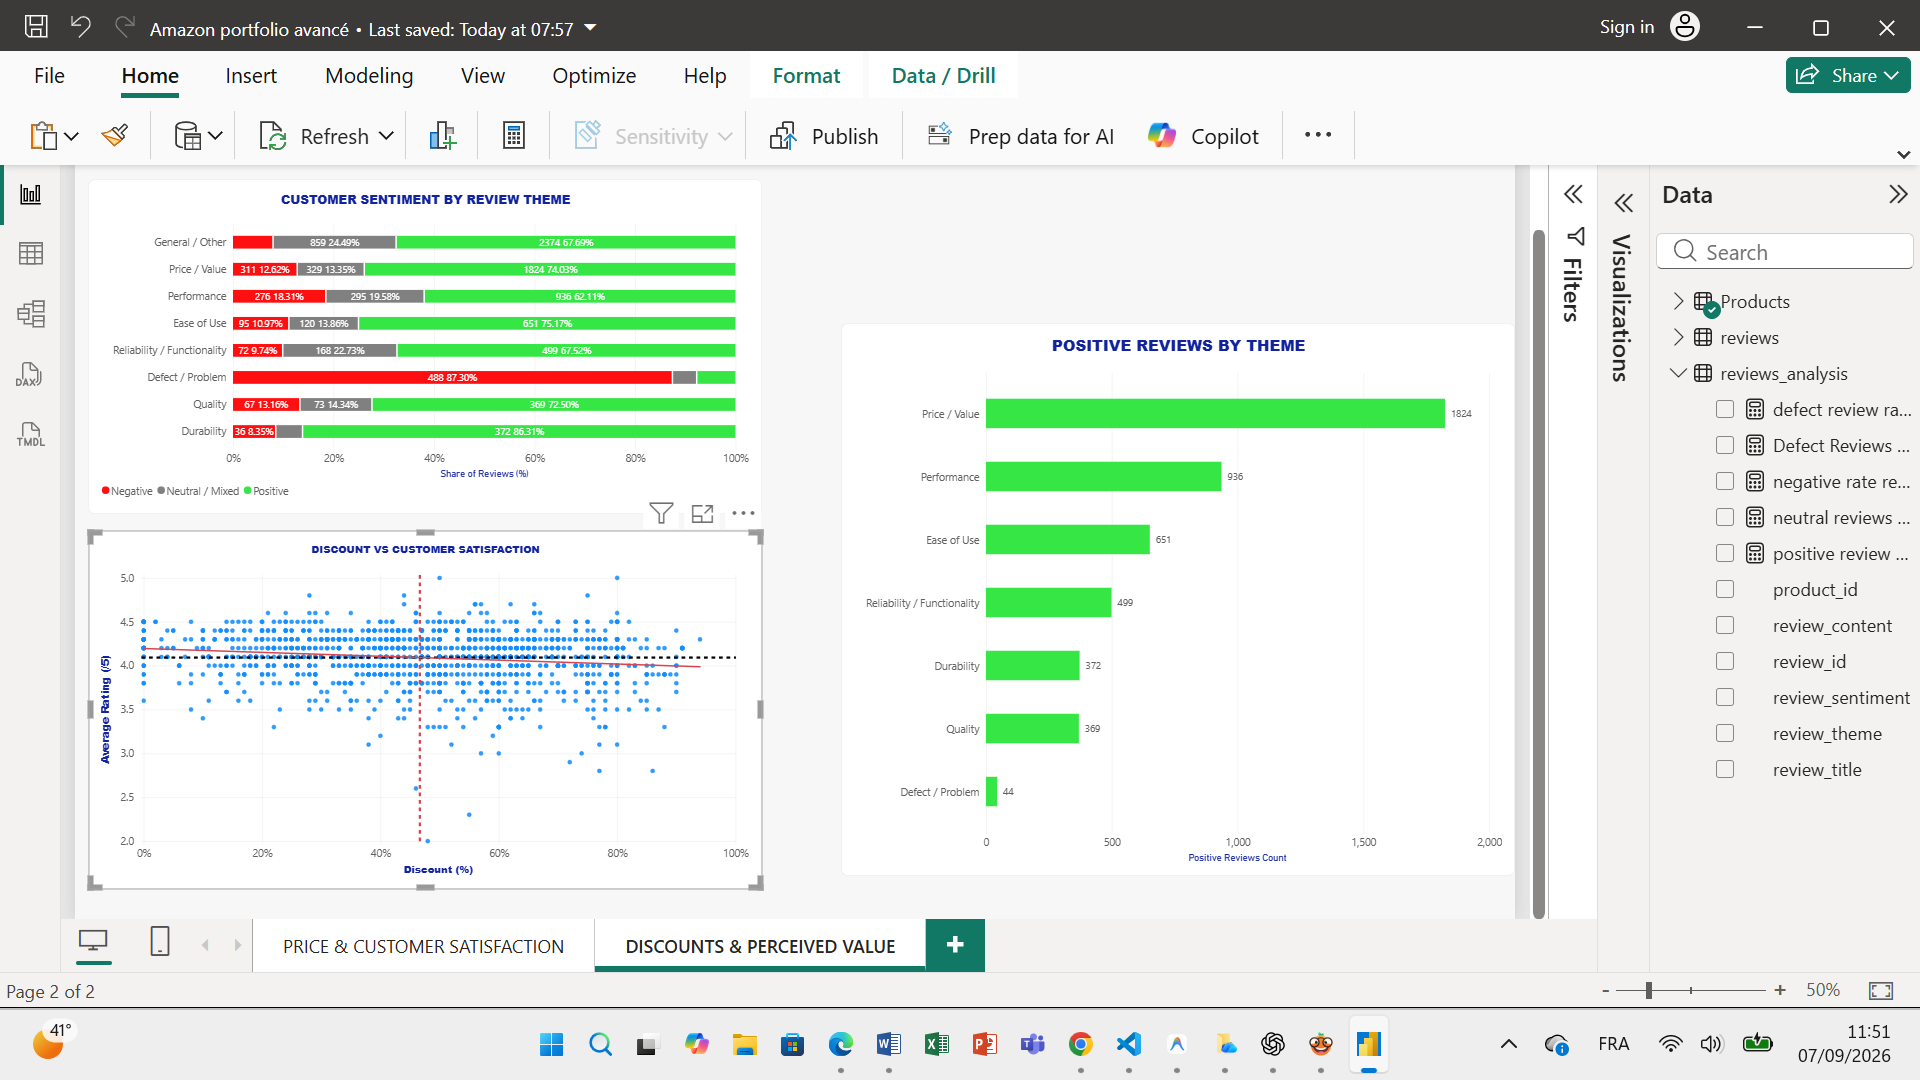

The dashboard page shown, as its layout file describes it:
{"tool":"powerbi","page":{"name":"DISCOUNTS & PERCEIVED VALUE","canvas":[1920,1080],"ordinal":1},"visuals":[{"type":"scatterChart","title":"DISCOUNT VS CUSTOMER SATISFACTION","fields":{"Category":["Products.product_id"],"X":["Avg(Products.discount_percentage)"],"Y":["Products.average rating"]},"box":[0,426.6,879.7,370.3],"z":0},{"type":"hundredPercentStackedBarChart","title":"CUSTOMER SENTIMENT BY REVIEW THEME","fields":{"Category":["reviews_analysis.review_theme"],"Series":["reviews_analysis.review_sentiment"],"Y":["CountNonNull(reviews_analysis.review_theme)"]},"box":[0,0,898,446],"z":1000},{"type":"clusteredBarChart","title":"POSITIVE REVIEWS BY THEME","fields":{"Category":["reviews_analysis.review_theme"],"Y":["CountNonNull(reviews_analysis.review_theme)"]},"box":[881.2,0,898.4,796.9],"z":2000}]}

Visuals, with their boxes on the page's 1920x1080 design canvas (x1, y1, x2, y2). These are canvas units, not pixel positions in the 1920x1080 screenshot, which may show the page scaled, cropped or inside an application window:
"DISCOUNT VS CUSTOMER SATISFACTION" scatterChart: pyautogui.locateOnScreen(0, 427, 880, 797)
"CUSTOMER SENTIMENT BY REVIEW THEME" hundredPercentStackedBarChart: pyautogui.locateOnScreen(0, 0, 898, 446)
"POSITIVE REVIEWS BY THEME" clusteredBarChart: pyautogui.locateOnScreen(881, 0, 1780, 797)
